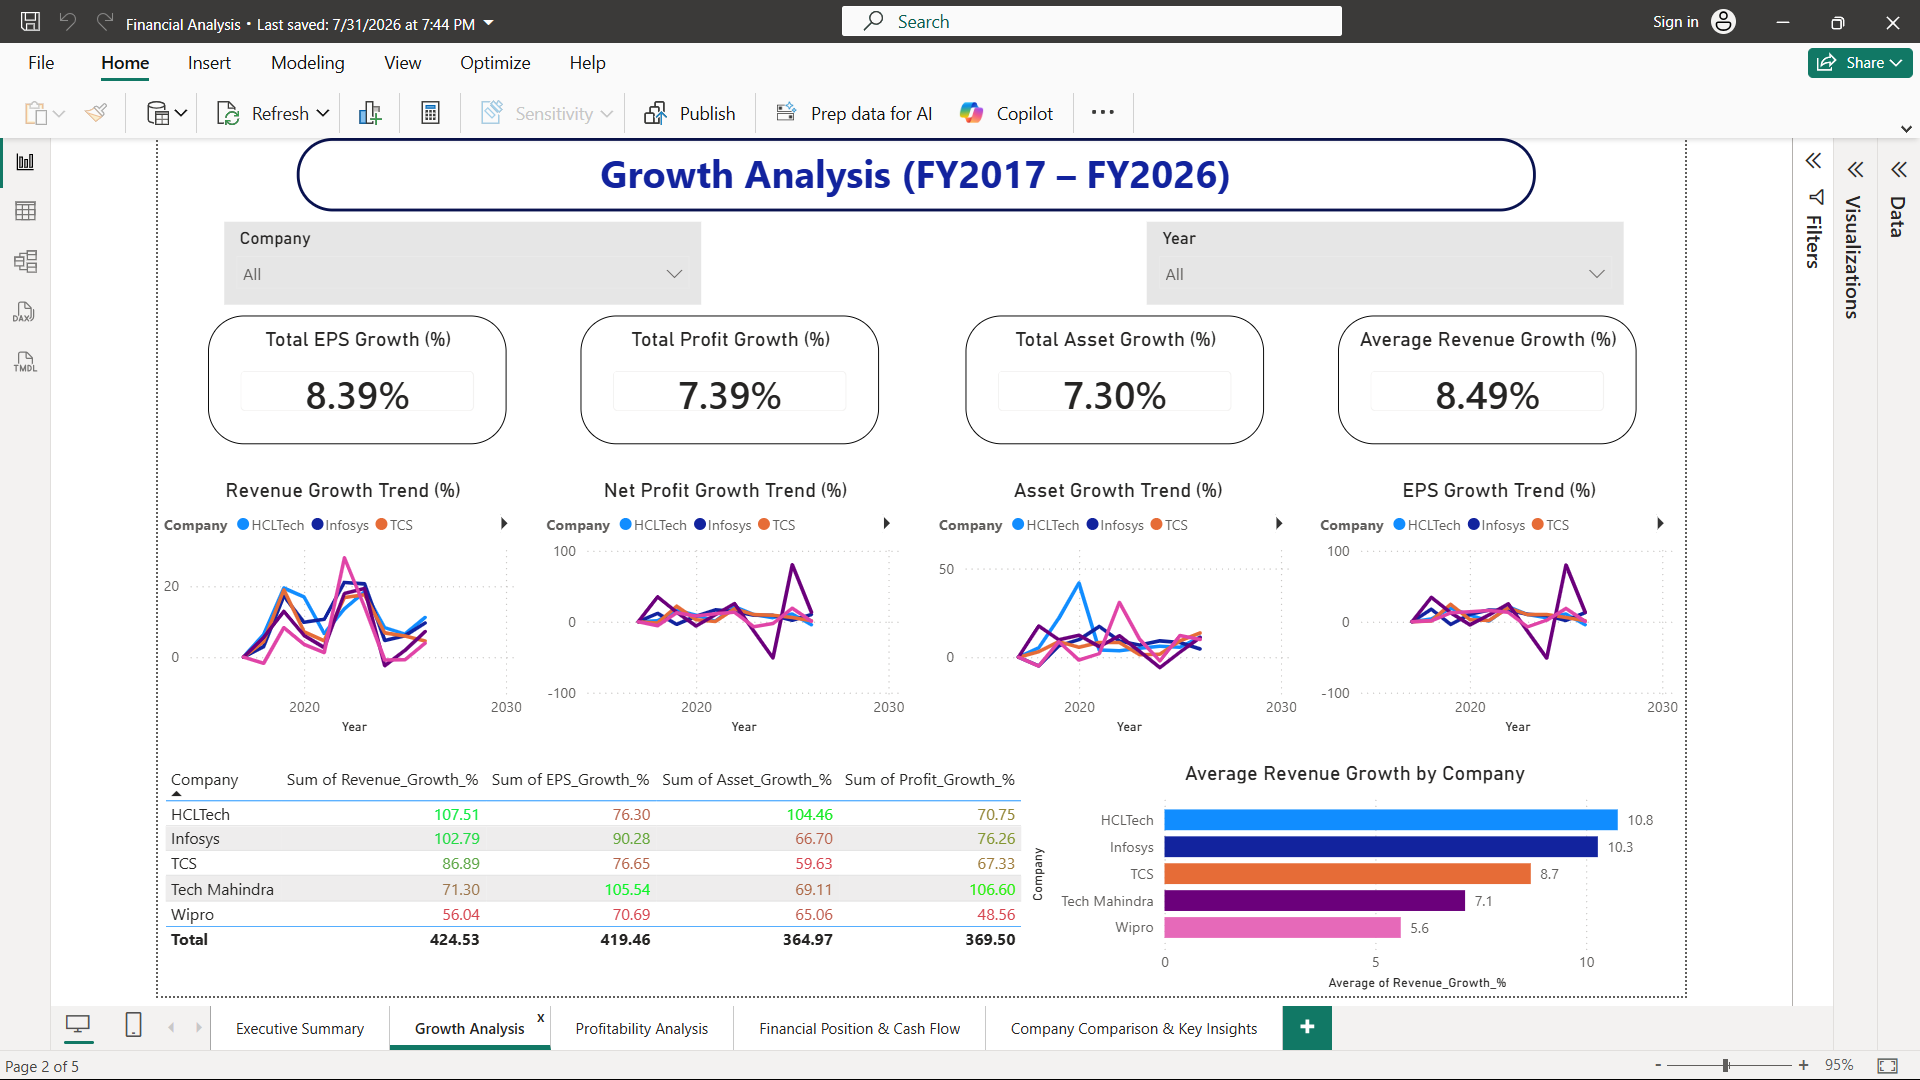

The dashboard page shown, as its layout file describes it:
{"tool":"powerbi","page":{"name":"Growth Analysis","canvas":[1280,720],"ordinal":1},"visuals":[{"type":"textbox","box":[116.3,0,1039.5,61.6],"z":0},{"type":"cardVisual","title":"Average Revenue Growth (%)","fields":{"Data":["Avg(financial_kpis.Revenue_Growth_%)"]},"box":[989.5,149,250,108.1],"z":1000},{"type":"cardVisual","title":"Total EPS Growth (%)","fields":{"Data":["Avg(financial_kpis.EPS_Growth_%)"]},"box":[41.9,149,250,108.1],"z":2000},{"type":"cardVisual","title":"Total Profit Growth (%)","fields":{"Data":["Avg(financial_kpis.Profit_Growth_%)"]},"box":[354.7,149,250,108.1],"z":3000},{"type":"cardVisual","title":"Total Asset Growth (%)","fields":{"Data":["Avg(financial_kpis.Asset_Growth_%)"]},"box":[676.7,149,250,108.1],"z":4000},{"type":"lineChart","title":"Revenue Growth Trend (%)","fields":{"Category":["financial_kpis.Year"],"Y":["Avg(financial_kpis.Revenue_Growth_%)"],"Series":["financial_kpis.Company"]},"box":[0,285,310,220],"z":5000},{"type":"lineChart","title":"Net Profit Growth Trend (%)","fields":{"Category":["financial_kpis.Year"],"Y":["Avg(financial_kpis.Profit_Growth_%)"],"Series":["financial_kpis.Company"]},"box":[321.2,285,310,220],"z":6000},{"type":"lineChart","title":"EPS Growth Trend (%)","fields":{"Category":["financial_kpis.Year"],"Y":["Avg(financial_kpis.EPS_Growth_%)"],"Series":["financial_kpis.Company"]},"box":[970,285,310,220],"z":7000},{"type":"lineChart","title":"Asset Growth Trend (%)","fields":{"Y":["Avg(financial_kpis.Asset_Growth_%)"],"Series":["financial_kpis.Company"],"Category":["financial_kpis.Year"]},"box":[650,285,310,220],"z":8000},{"type":"tableEx","fields":{"Values":["financial_kpis.Company","Sum(financial_kpis.Revenue_Growth_%)","Sum(financial_kpis.EPS_Growth_%)","Sum(financial_kpis.Asset_Growth_%)","Sum(financial_kpis.Profit_Growth_%)"]},"box":[0,522.4,737,197.4],"z":9000},{"type":"clusteredBarChart","title":"Average Revenue Growth by Company","fields":{"Category":["financial_kpis.Company"],"Y":["Avg(financial_kpis.Revenue_Growth_%)"]},"box":[727.2,522.4,553.1,197.4],"z":10000},{"type":"slicer","fields":{"Values":["financial_kpis.Company"]},"box":[55.8,70,400,69.8],"z":11000},{"type":"slicer","fields":{"Values":["financial_kpis.Year"]},"box":[829.1,70,400,69.8],"z":12000}]}

Visuals, with their boxes on the page's 1280x720 design canvas (x1, y1, x2, y2). These are canvas units, not pixel positions in the 1920x1080 screenshot, which may show the page scaled, cropped or inside an application window:
textbox: (116, 0, 1156, 62)
"Average Revenue Growth (%)" cardVisual: (990, 149, 1240, 257)
"Total EPS Growth (%)" cardVisual: (42, 149, 292, 257)
"Total Profit Growth (%)" cardVisual: (355, 149, 605, 257)
"Total Asset Growth (%)" cardVisual: (677, 149, 927, 257)
"Revenue Growth Trend (%)" lineChart: (0, 285, 310, 505)
"Net Profit Growth Trend (%)" lineChart: (321, 285, 631, 505)
"EPS Growth Trend (%)" lineChart: (970, 285, 1280, 505)
"Asset Growth Trend (%)" lineChart: (650, 285, 960, 505)
tableEx - financial_kpis.Company x Sum(financial_kpis.Revenue_Growth_%): (0, 522, 737, 720)
"Average Revenue Growth by Company" clusteredBarChart: (727, 522, 1280, 720)
slicer - financial_kpis.Company: (56, 70, 456, 140)
slicer - financial_kpis.Year: (829, 70, 1229, 140)
